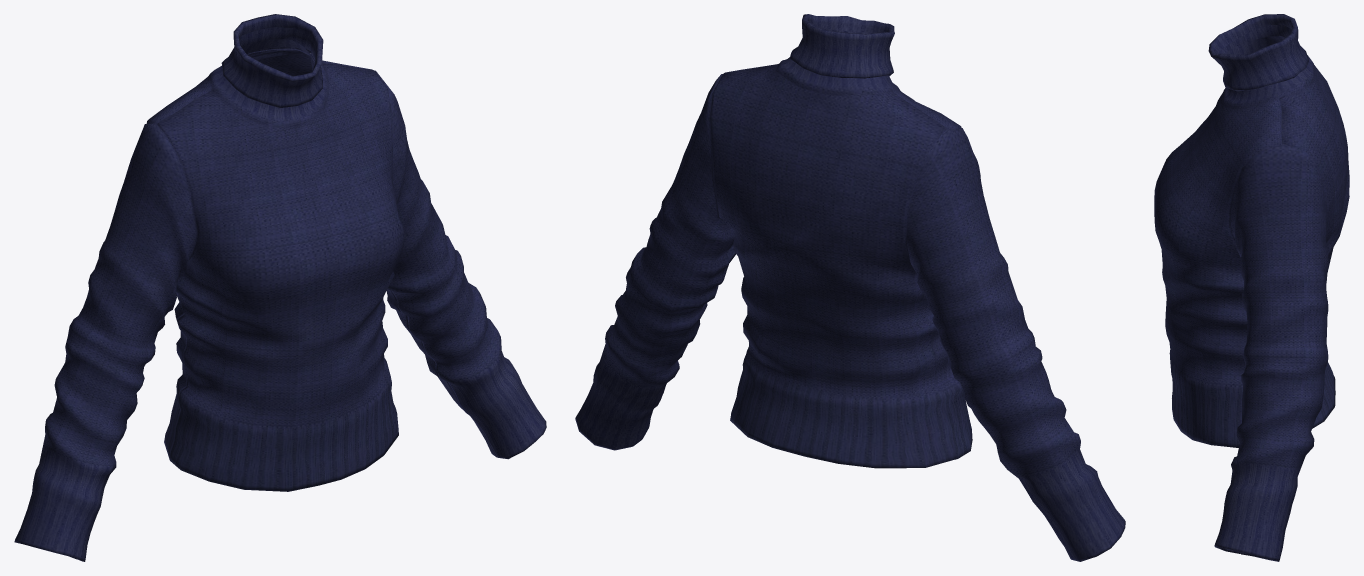
Rendered from blue-sweater.obj.
3 views of the same model, side by side, from view 1: azimuth 30°, elevation 25°; view 2: azimuth 150°, elevation 25°; view 3: azimuth 270°, elevation 25° (orthographic). The views are drawn at different scales.
Size of the model in its own units: 95 by 82.16 by 33.45.
1 material, 1 textured.
